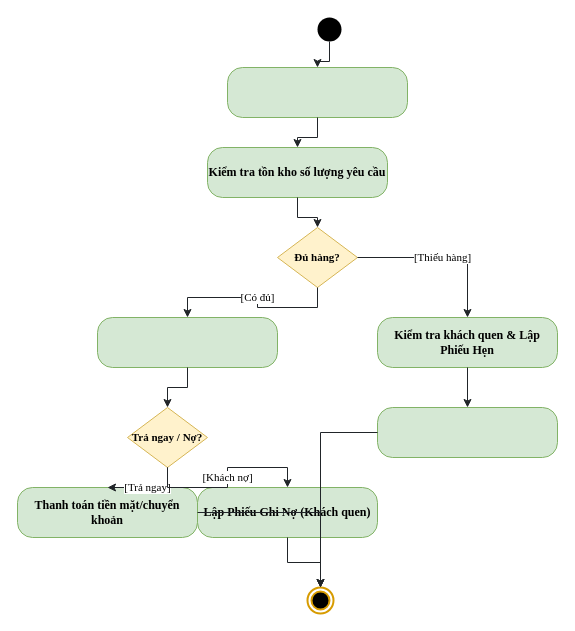
This 575x631 diagram has some shape labels left out. Each missing label, with the centre of its shape:
"Khách hàng đặt mua NGK" belongs at pixel 317 92.
"Lập Hóa Đơn & Giao hàng ngay" belongs at pixel 187 342.
"Nhập hàng từ NCU & Giao theo đợt hẹn" belongs at pixel 467 432.
